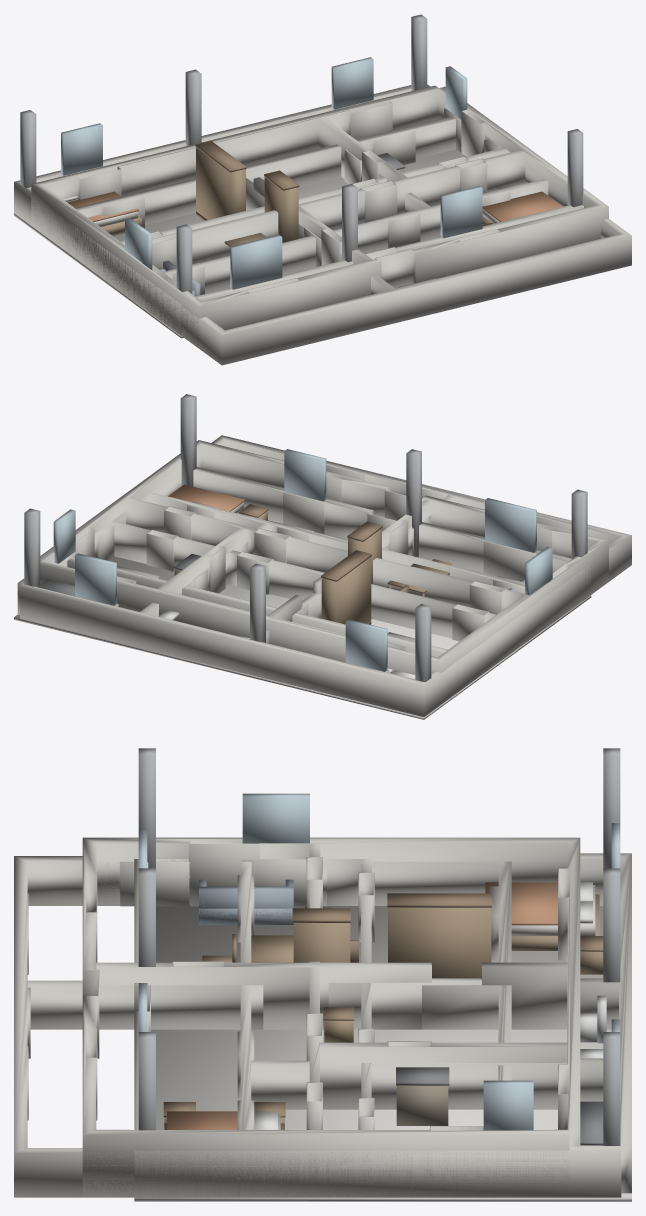
Rendered from sample.glb.
3 renders of one model, top to bottom at view 1: azimuth 30°, elevation 25°; view 2: azimuth 150°, elevation 25°; view 3: azimuth 270°, elevation 25°, orthographic. The views are drawn at different scales.
Parts seen in each view (by area): view 1: wall_p0_1_0, wall_p0_2_0, wall_p0_0_0, furn_cupboard_5_body, glass_0, floor, glass_3, glass_1, glass_2, furn_cupboard_7_body, furn_bed_0_blanket, column_1 (+9 smaller); view 2: wall_p0_0_0, wall_p0_1_0, wall_p0_2_0, floor, furn_cupboard_5_body, glass_0, glass_1, glass_2, glass_3, column_1, column_4, column_3 (+8 smaller); view 3: wall_p0_1_0, wall_p0_0_0, wall_p0_2_0, floor, furn_cupboard_5_body, glass_4, glass_5, furn_cupboard_7_body, furn_counter_6_body, furn_bed_1_blanket, column_5, column_3 (+15 smaller).
Part boxes in pixels (x1,y1,x2,y2): wall_p0_1_0: (31,85,608,347); wall_p0_2_0: (60,116,631,365); wall_p0_0_0: (14,84,583,335); furn_cupboard_5_body: (196,147,245,219); glass_0: (230,235,282,289); floor: (14,149,466,338); glass_3: (331,57,373,109); glass_1: (440,186,482,238); glass_2: (61,123,102,175); furn_cupboard_7_body: (264,177,298,242); furn_bed_0_blanket: (482,191,562,221); column_1: (567,129,583,207); wall_p0_0_0: (17,467,591,716); wall_p0_1_0: (40,440,608,674); wall_p0_2_0: (67,435,631,685); floor: (14,520,591,719); furn_cupboard_5_body: (321,557,371,624); glass_0: (485,498,536,552); glass_1: (284,449,326,501); glass_2: (345,619,387,671); glass_3: (75,553,116,605); column_1: (180,394,196,486); column_4: (406,449,421,557); column_3: (24,508,40,587); wall_p0_1_0: (82,837,580,1197); wall_p0_0_0: (134,853,631,1197); wall_p0_2_0: (14,856,511,1197); floor: (134,906,631,1201); furn_cupboard_5_body: (388,907,491,978); glass_4: (242,793,309,843); glass_5: (483,1080,533,1130); furn_cupboard_7_body: (293,923,350,962); furn_counter_6_body: (396,1085,448,1125); furn_bed_1_blanket: (485,882,557,925); column_5: (603,868,620,982); column_3: (603,1032,620,1145).
Size of the model in its own units: 12.47 by 3.08 by 10.95.
